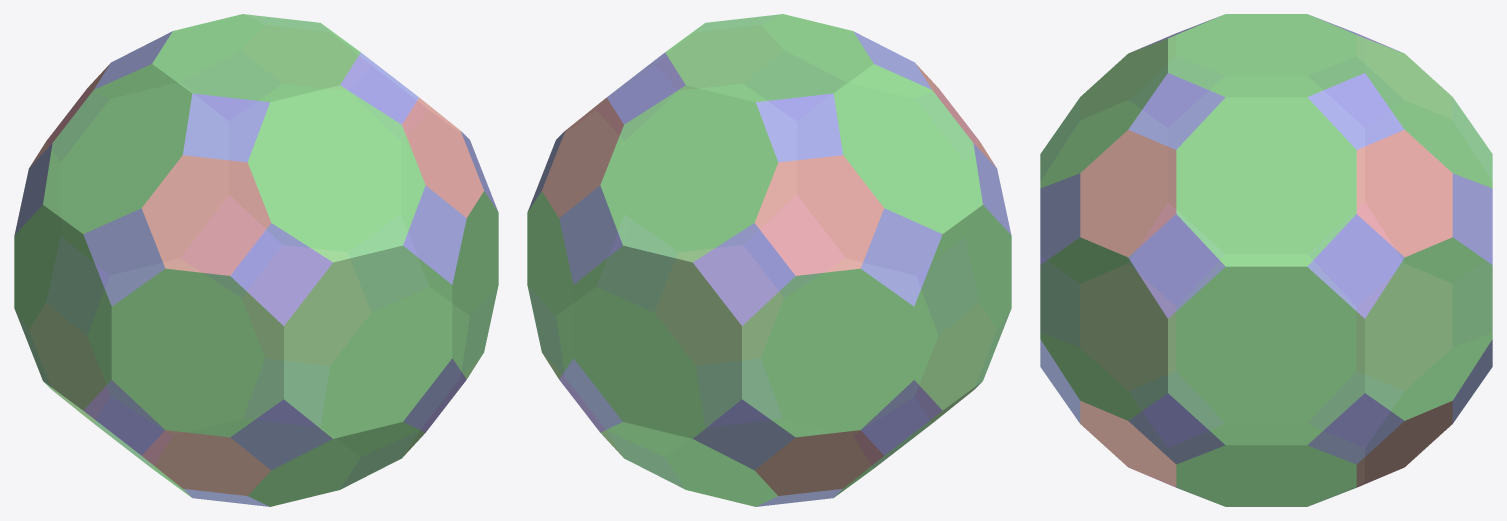
File: TruncatedRhombicuboctahedron.obj
The picture shows the model from 3 angles, left to right: view 1: azimuth 30°, elevation 25°; view 2: azimuth 150°, elevation 25°; view 3: azimuth 270°, elevation 25°; orthographic projection.
Size of the model in its own units: 1.83 by 1.83 by 1.83.
